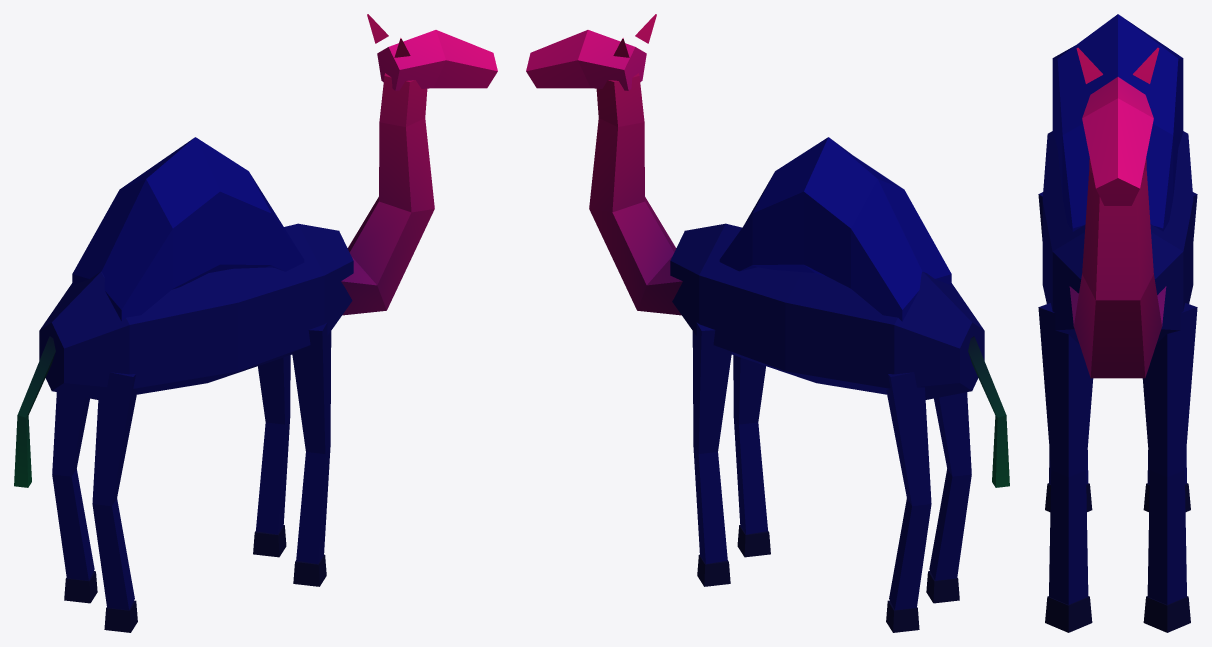
The model's file is ns-camel-a.glb.
The picture shows the model from 3 angles, left to right: view 1: azimuth 30°, elevation 25°; view 2: azimuth 150°, elevation 25°; view 3: azimuth 270°, elevation 25°; orthographic projection. The views are drawn at different scales.
Parts seen in each view (by area): view 1: Sculpted silhouette, Sculpted silhouette.001, Tapered form.008, Tapered form.006, Tapered form.002, Tapered form.004, Tapered form.009, Tapered form, Tapered form.012, Tapered form.003, Tapered form.001, Tapered form.005 (+1 smaller); view 2: Sculpted silhouette, Sculpted silhouette.001, Tapered form.008, Tapered form.004, Tapered form, Tapered form.006, Tapered form.009, Tapered form.002, Tapered form.012, Tapered form.001, Tapered form.003, Tapered form.007 (+1 smaller); view 3: Sculpted silhouette.001, Tapered form.008, Tapered form, Tapered form.002, Sculpted silhouette, Tapered form.009, Tapered form.001, Tapered form.003, Tapered form.010, Tapered form.011, Tapered form.005, Tapered form.007 (+2 smaller).
Boxes of the visible parts, left/top/right/bottom form: Sculpted silhouette: left=39, top=223, right=353, bottom=399; Sculpted silhouette.001: left=72, top=137, right=304, bottom=321; Tapered form.008: left=341, top=73, right=434, bottom=315; Tapered form.006: left=92, top=372, right=137, bottom=610; Tapered form.002: left=292, top=322, right=331, bottom=563; Tapered form.004: left=52, top=392, right=94, bottom=580; Tapered form.009: left=377, top=30, right=497, bottom=90; Tapered form: left=256, top=355, right=290, bottom=534; Tapered form.012: left=14, top=336, right=55, bottom=487; Tapered form.003: left=293, top=554, right=326, bottom=586; Tapered form.001: left=253, top=525, right=286, bottom=557; Tapered form.005: left=64, top=571, right=97, bottom=603; Sculpted silhouette: left=670, top=223, right=984, bottom=399; Sculpted silhouette.001: left=719, top=137, right=951, bottom=321; Tapered form.008: left=589, top=73, right=682, bottom=315; Tapered form.004: left=886, top=372, right=931, bottom=610; Tapered form: left=692, top=322, right=731, bottom=563; Tapered form.006: left=929, top=392, right=971, bottom=580; Tapered form.009: left=526, top=30, right=646, bottom=90; Tapered form.002: left=733, top=355, right=767, bottom=534; Tapered form.012: left=968, top=336, right=1009, bottom=487; Tapered form.001: left=697, top=554, right=730, bottom=586; Tapered form.003: left=737, top=525, right=770, bottom=557; Tapered form.007: left=926, top=571, right=959, bottom=603; Sculpted silhouette.001: left=1052, top=14, right=1183, bottom=231; Tapered form.008: left=1069, top=158, right=1166, bottom=378; Tapered form: left=1142, top=303, right=1197, bottom=604; Tapered form.002: left=1038, top=303, right=1093, bottom=604; Sculpted silhouette: left=1042, top=131, right=1193, bottom=344; Tapered form.009: left=1082, top=77, right=1153, bottom=205; Tapered form.001: left=1143, top=596, right=1190, bottom=632; Tapered form.003: left=1045, top=596, right=1092, bottom=632; Tapered form.010: left=1076, top=47, right=1102, bottom=83; Tapered form.011: left=1133, top=47, right=1159, bottom=83; Tapered form.005: left=1143, top=483, right=1190, bottom=511; Tapered form.007: left=1045, top=483, right=1092, bottom=511.
Size of the model in its own units: 1.17 by 1.2 by 0.274.
